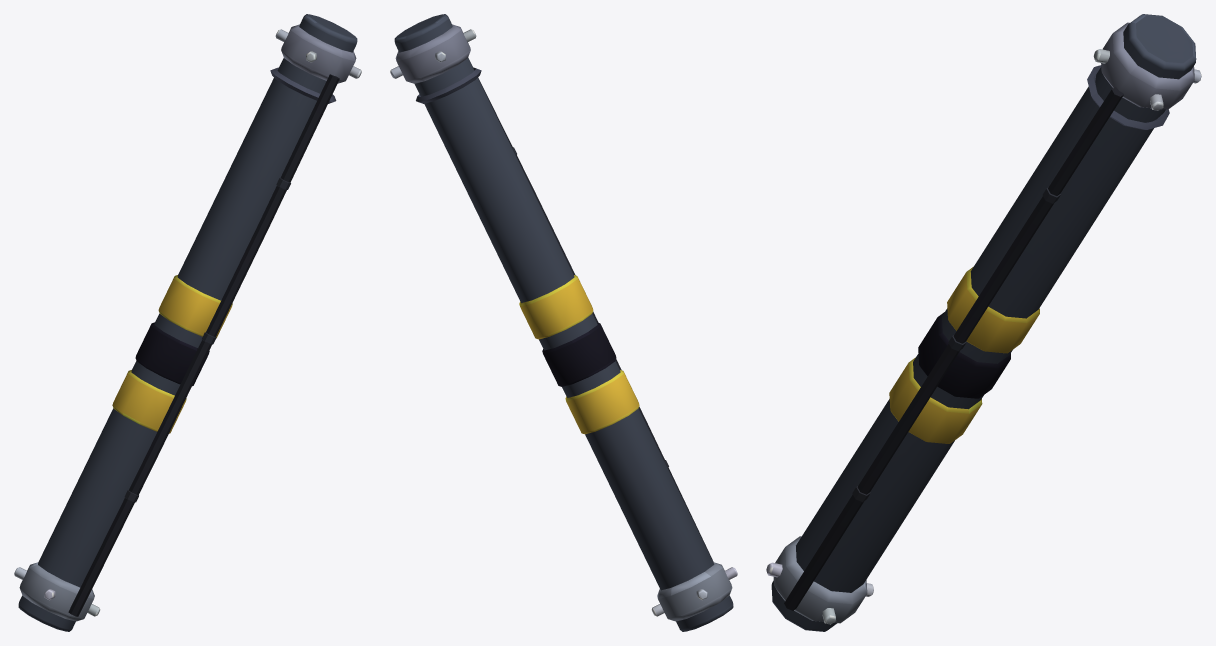
File: SM_Station_SharkRig_Arm.fbx
3 renders of one model, left to right at view 1: azimuth 30°, elevation 25°; view 2: azimuth 150°, elevation 25°; view 3: azimuth 330°, elevation 25°, orthographic. The views are drawn at different scales.
Parts seen in each view (by area): view 1: SM_Station_SharkRig_Arm; view 2: SM_Station_SharkRig_Arm; view 3: SM_Station_SharkRig_Arm.
Boxes of the visible parts, x1,y1,x2,y2 form: SM_Station_SharkRig_Arm: [14, 14, 361, 631]; SM_Station_SharkRig_Arm: [390, 14, 737, 631]; SM_Station_SharkRig_Arm: [766, 14, 1201, 631].
Bounding box in the file's own units: 85.77 × 136 × 19.49.
